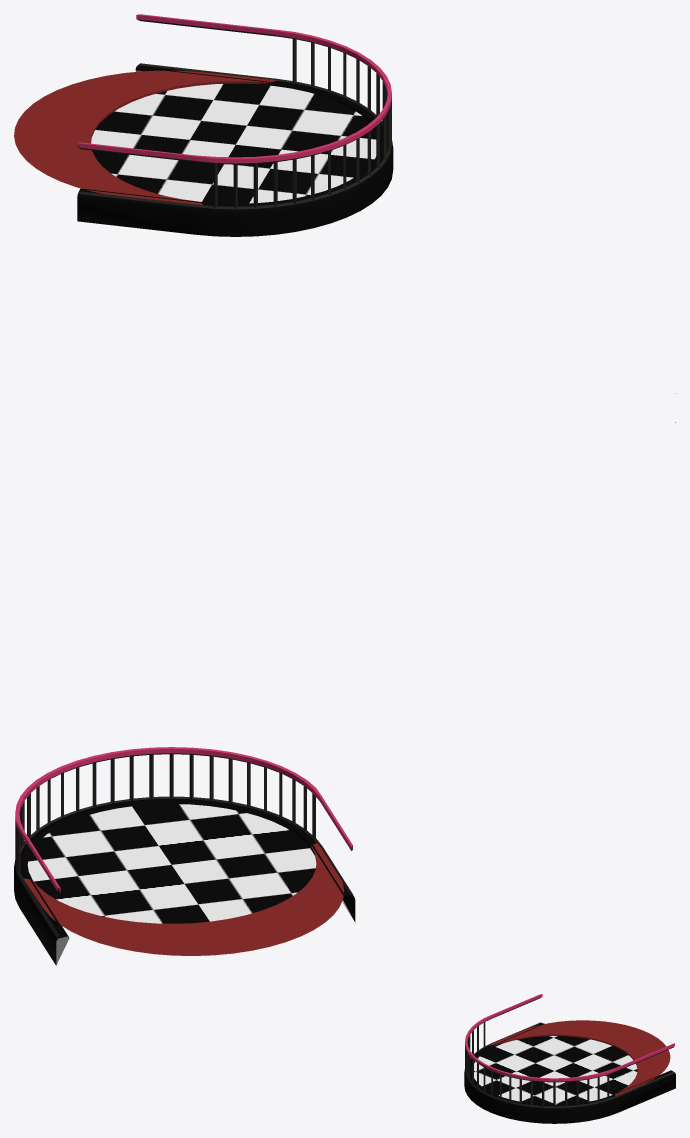
Rendered from Mangle Stage.fbx.
3 views of the same model, one above another, from view 1: azimuth 30°, elevation 25°; view 2: azimuth 150°, elevation 25°; view 3: azimuth 270°, elevation 25° (orthographic). The views are drawn at different scales.
Visible parts, largest first — view 1: Torus.001, Torus.002; view 2: Torus.002, Torus.001; view 3: Torus.001, Torus.002.
Part boxes in pixels (x1,y1,x2,y2): Torus.001: [14, 14, 393, 236]; Torus.002: [91, 83, 675, 393]; Torus.002: [27, 422, 675, 923]; Torus.001: [14, 747, 355, 965]; Torus.001: [464, 994, 675, 1123]; Torus.002: [474, 1036, 637, 1104].
Bounding box in the file's own units: 298 × 119 × 953.
